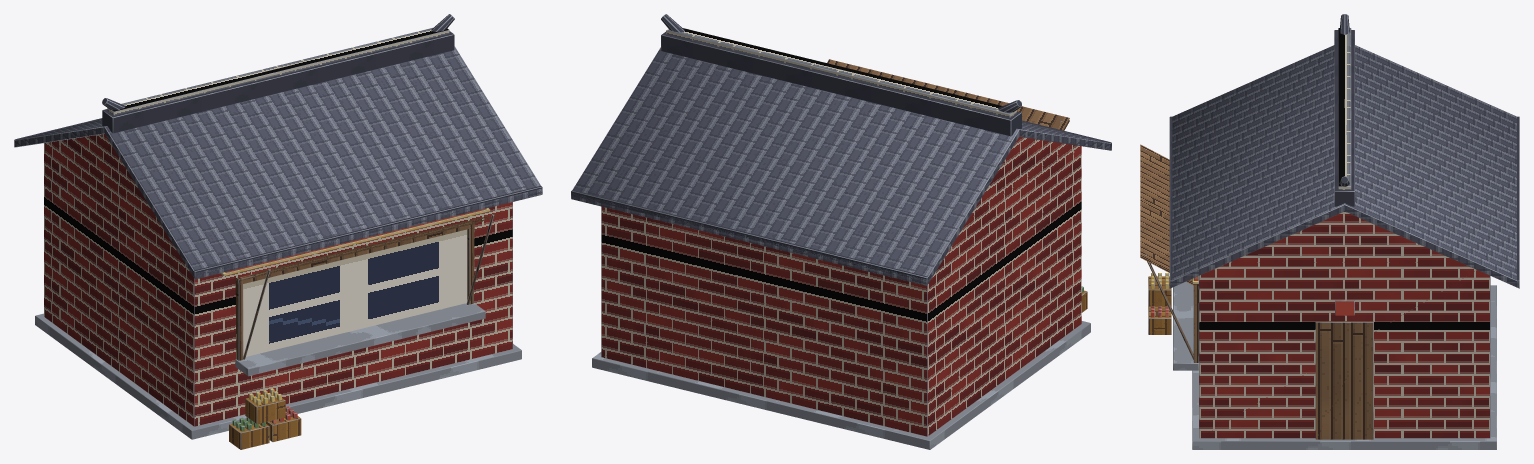
Rendered from cn_shop_0.glb.
3 renders of one model, left to right at view 1: azimuth 30°, elevation 25°; view 2: azimuth 150°, elevation 25°; view 3: azimuth 270°, elevation 25°, orthographic. The views are drawn at different scales.
Parts seen in each view (by area): view 1: cn_shop_1; view 2: cn_shop_1; view 3: cn_shop_1.
Part boxes in pixels (x1=…): cn_shop_1: x1=14, y1=14, x2=542, y2=449; cn_shop_1: x1=571, y1=14, x2=1111, y2=449; cn_shop_1: x1=1140, y1=14, x2=1519, y2=449.
Bounding box in the file's own units: 6.06 × 4.71 × 5.86.
14 materials, 14 textured.
